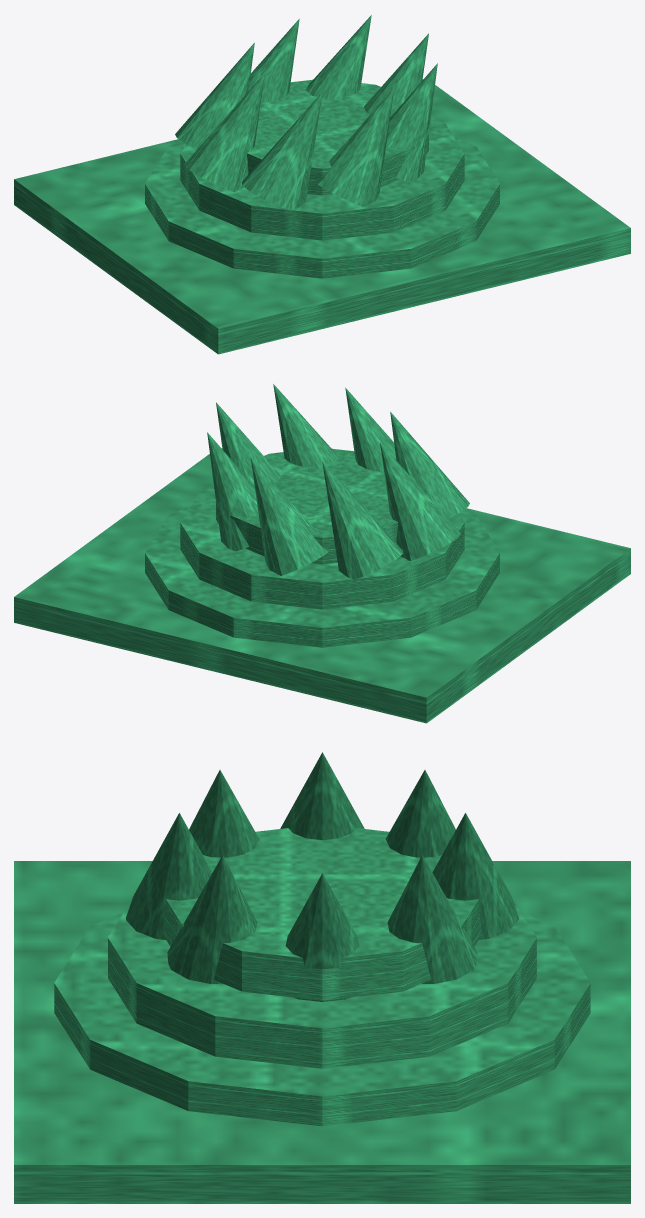
File: lotus_terrace_01.glb
3 views of the same model, one above another, from view 1: azimuth 30°, elevation 25°; view 2: azimuth 150°, elevation 25°; view 3: azimuth 270°, elevation 25° (orthographic). The views are drawn at different scales.
Parts seen in each view (by area): view 1: Foundation, LotusTier, LotusTier.001, LotusTier.002, LotusPetal.005, LotusPetal.006, LotusPetal.004, LotusPetal.007, LotusPetal.003, LotusPetal.001, LotusPetal.002, LotusPetal; view 2: Foundation, LotusTier, LotusTier.001, LotusTier.002, LotusPetal.003, LotusPetal.002, LotusPetal.004, LotusPetal.001, LotusPetal.005, LotusPetal.007, LotusPetal.006, LotusPetal; view 3: Foundation, LotusTier, LotusTier.001, LotusTier.002, LotusPetal.001, LotusPetal.007, LotusPetal.002, LotusPetal.006, LotusPetal, LotusPetal.004, LotusPetal.003, LotusPetal.005.
Boxes of the visible parts, left/top/right/bottom form: Foundation: left=14, top=79, right=630, bottom=354; LotusTier: left=145, top=137, right=499, bottom=278; LotusTier.001: left=180, top=117, right=464, bottom=240; LotusTier.002: left=246, top=79, right=428, bottom=195; LotusPetal.005: left=242, top=92, right=322, bottom=210; LotusPetal.006: left=316, top=88, right=394, bottom=206; LotusPetal.004: left=184, top=73, right=264, bottom=192; LotusPetal.007: left=386, top=63, right=437, bottom=182; LotusPetal.003: left=175, top=42, right=254, bottom=149; LotusPetal.001: left=306, top=15, right=371, bottom=98; LotusPetal.002: left=248, top=18, right=299, bottom=102; LotusPetal: left=364, top=33, right=428, bottom=116; Foundation: left=14, top=448, right=630, bottom=723; LotusTier: left=145, top=506, right=499, bottom=647; LotusTier.001: left=180, top=486, right=464, bottom=609; LotusTier.002: left=216, top=448, right=398, bottom=564; LotusPetal.003: left=322, top=461, right=402, bottom=579; LotusPetal.002: left=250, top=457, right=328, bottom=575; LotusPetal.004: left=380, top=442, right=460, bottom=561; LotusPetal.001: left=207, top=432, right=258, bottom=551; LotusPetal.005: left=390, top=411, right=469, bottom=518; LotusPetal.007: left=273, top=384, right=338, bottom=467; LotusPetal.006: left=345, top=387, right=396, bottom=471; LotusPetal: left=216, top=402, right=280, bottom=485; Foundation: left=14, top=861, right=630, bottom=1203; LotusTier: left=54, top=912, right=590, bottom=1126; LotusTier.001: left=108, top=900, right=536, bottom=1068; LotusTier.002: left=163, top=828, right=481, bottom=1000; LotusPetal.001: left=387, top=855, right=477, bottom=983; LotusPetal.007: left=167, top=855, right=257, bottom=983; LotusPetal.002: left=432, top=813, right=518, bottom=939; LotusPetal.006: left=126, top=813, right=212, bottom=939; LotusPetal: left=285, top=873, right=359, bottom=1001; LotusPetal.004: left=280, top=752, right=364, bottom=840; LotusPetal.003: left=385, top=770, right=455, bottom=857; LotusPetal.005: left=189, top=770, right=259, bottom=857.
Bounding box in the file's own units: 4.03 × 1.59 × 3.45.
Materials: 1 (1 with a texture image).
